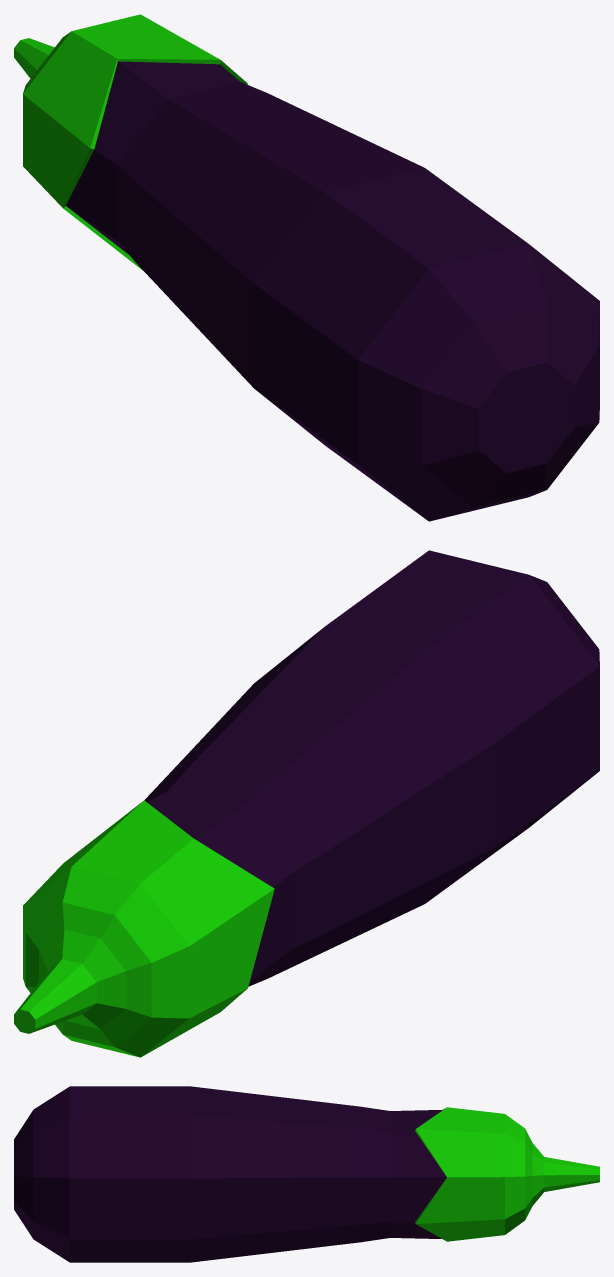
File: aubergine01.gltf
The picture shows the model from 3 angles, top to bottom: view 1: azimuth 30°, elevation 25°; view 2: azimuth 150°, elevation 25°; view 3: azimuth 270°, elevation 25°; orthographic projection. The views are drawn at different scales.
Parts seen in each view (by area): view 1: Cylinder.001; view 2: Cylinder.001; view 3: Cylinder.001.
Boxes of the visible parts, x1,y1,x2,y2 form: Cylinder.001: [14, 14, 599, 521]; Cylinder.001: [14, 550, 599, 1057]; Cylinder.001: [14, 1086, 599, 1262].
Size of the model in its own units: 0.0527 by 0.0527 by 0.1897.
Materials: 1 (1 with a texture image).
